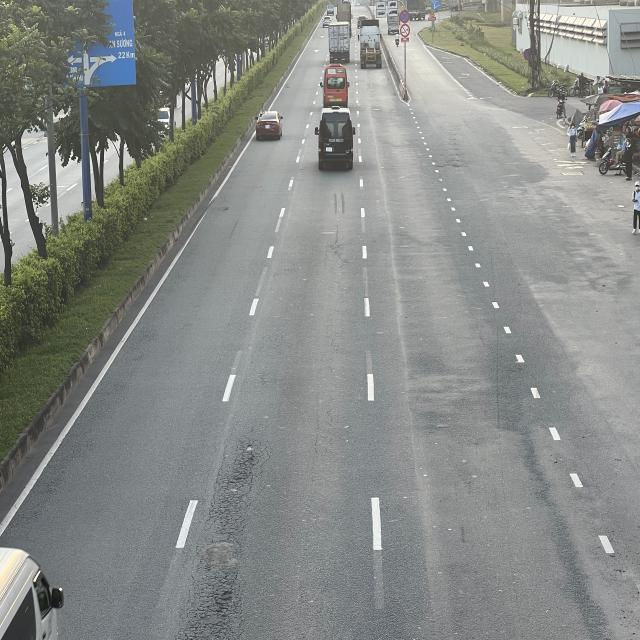car: (256, 112, 284, 142), (322, 15, 331, 27)
container: (356, 20, 382, 70), (329, 21, 350, 61)
van: (316, 107, 355, 169), (322, 62, 350, 106)
